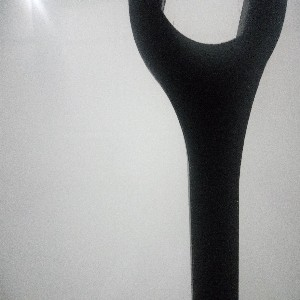spanner: (128, 1, 288, 300)
